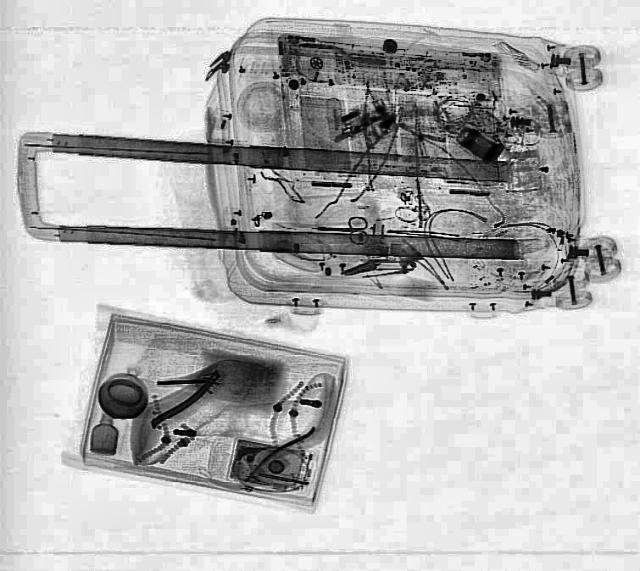Scissors: (310, 213, 366, 245)
